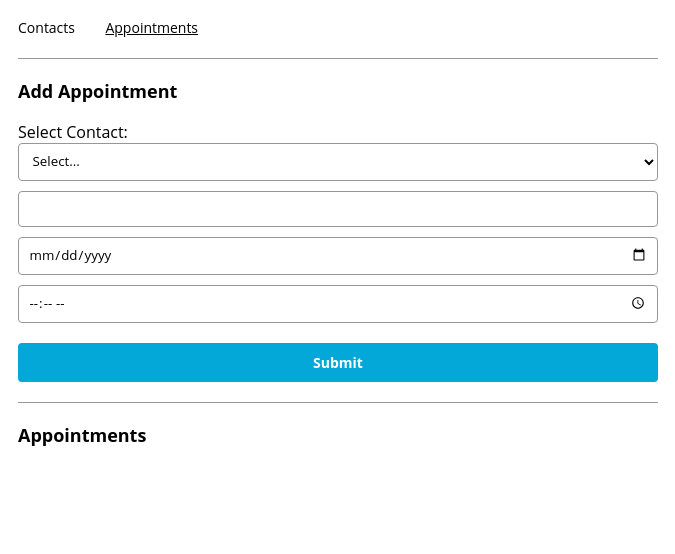
Test: adds valid contact to display list
This screenshot has width=675, height=554.
Step 1. Click the link "Contacts" → (46, 28), box [18,18,75,37]
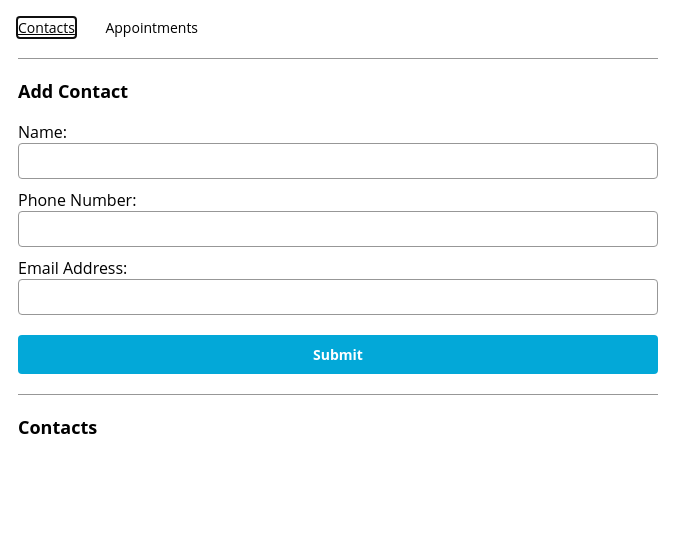
Step 2. Type "Mock Turtle Society Secretary" into the field labelled "Name:" → (338, 161), box [18,143,658,179]
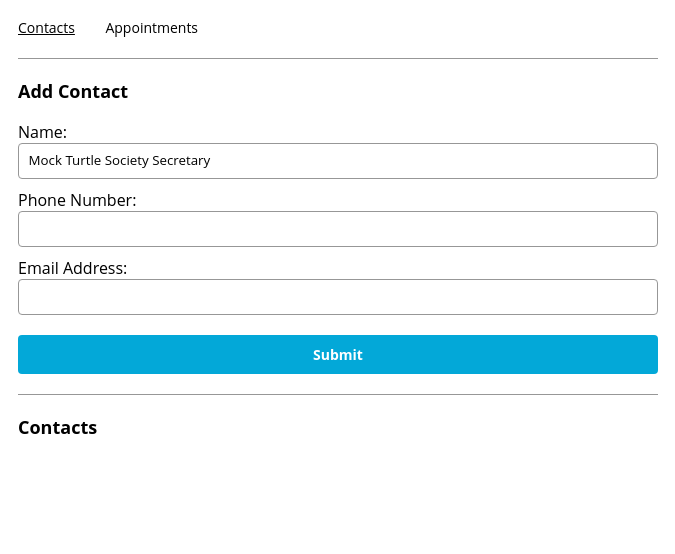
Step 3. Type "01311234567" into the field labelled "Phone Number:" → (338, 229), box [18,211,658,247]
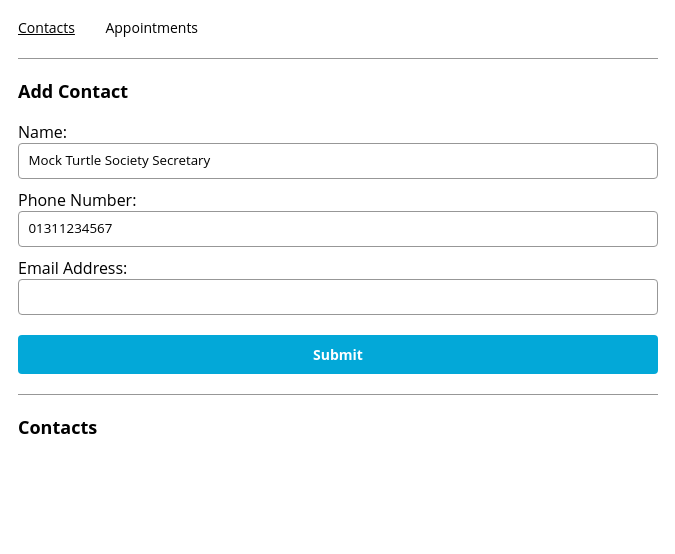
Step 4. Type "secretary@mockturtles.io" into the field labelled "Email Address:" → (338, 297), box [18,279,658,315]
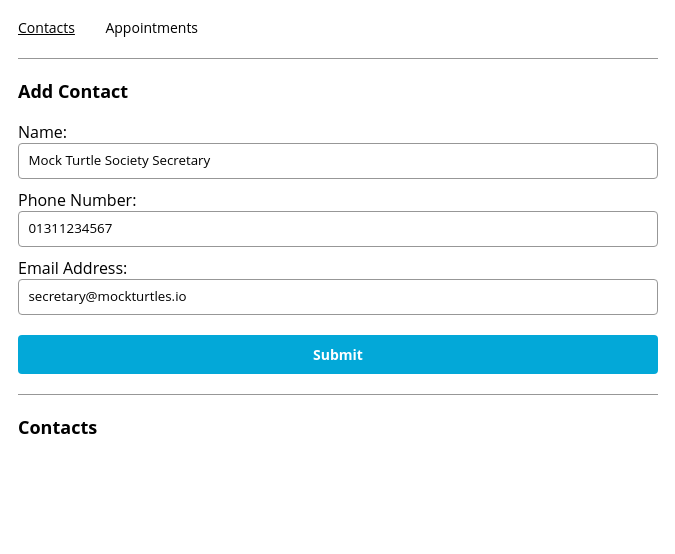
Step 5. Click the button → (338, 354), box [18,335,658,374]
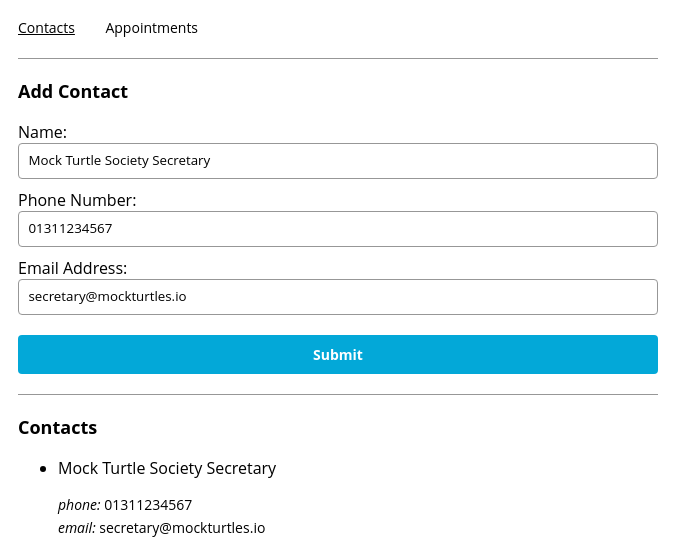
Now the text "Mock Turtle Society Secretary" is shown, box [58,457,276,479]
Now the text "01311234567" is shown, box [104,495,192,514]
Now the text "secretary@mockturtles.io" is shown, box [99,518,265,537]
